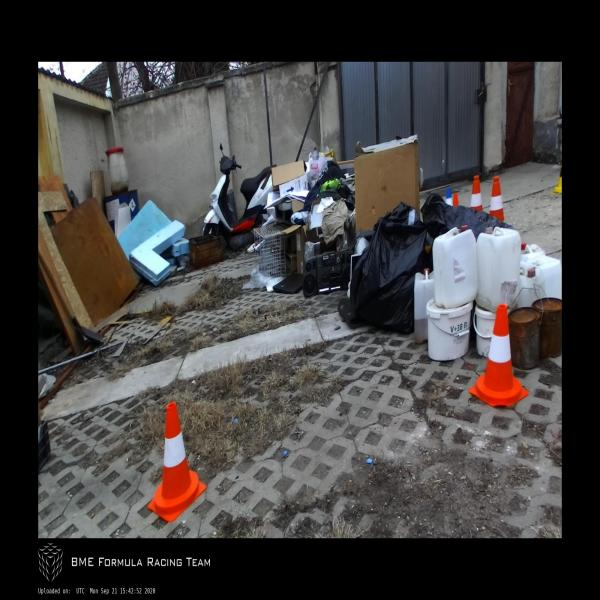blue_cone: (444, 187, 454, 205)
large_orange_cone: (489, 176, 505, 223), (470, 176, 483, 210)
orange_cone: (148, 403, 207, 522), (469, 305, 529, 408)
yellow_cone: (554, 153, 562, 194)
